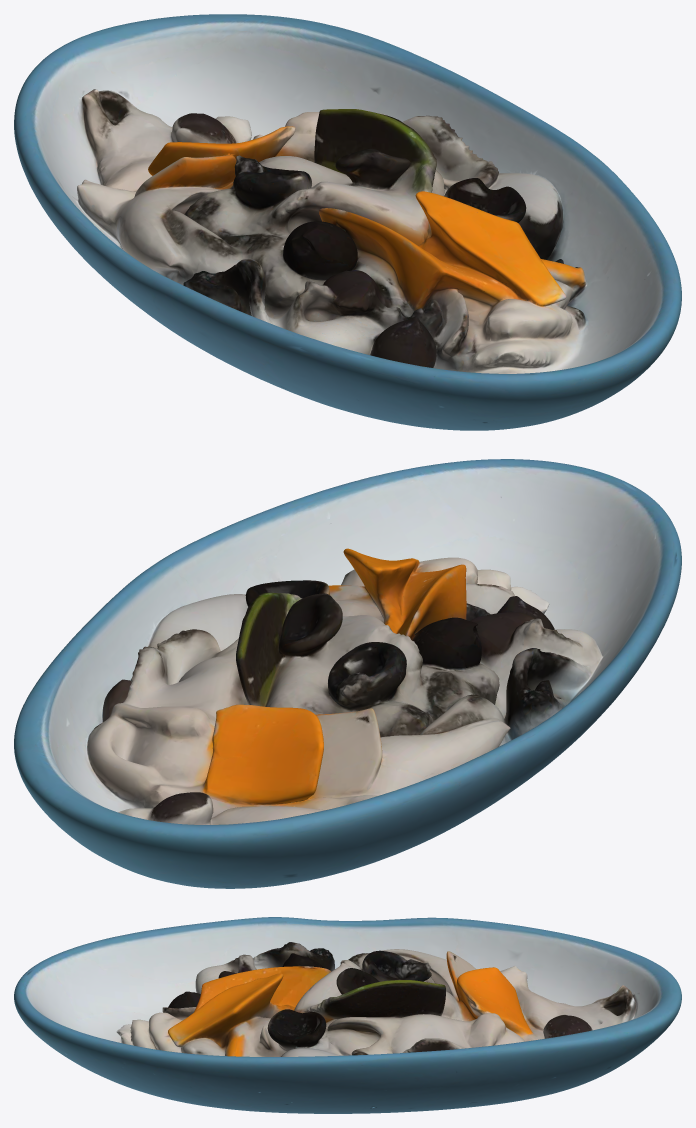
The model's file is Wine Lees Sliced Snakehead Fish.glb.
3 views of the same model, one above another, from view 1: azimuth 30°, elevation 25°; view 2: azimuth 150°, elevation 25°; view 3: azimuth 270°, elevation 25° (orthographic). The views are drawn at different scales.
Parts seen in each view (by area): view 1: material; view 2: material; view 3: material.
Part boxes in pixels (x1,y1,x2,y2): material: (14, 14, 681, 430); material: (14, 459, 681, 888); material: (14, 917, 681, 1113).
Size of the model in its own units: 0.6519 by 0.2125 by 1.2.
Materials: 1 (1 with a texture image).
